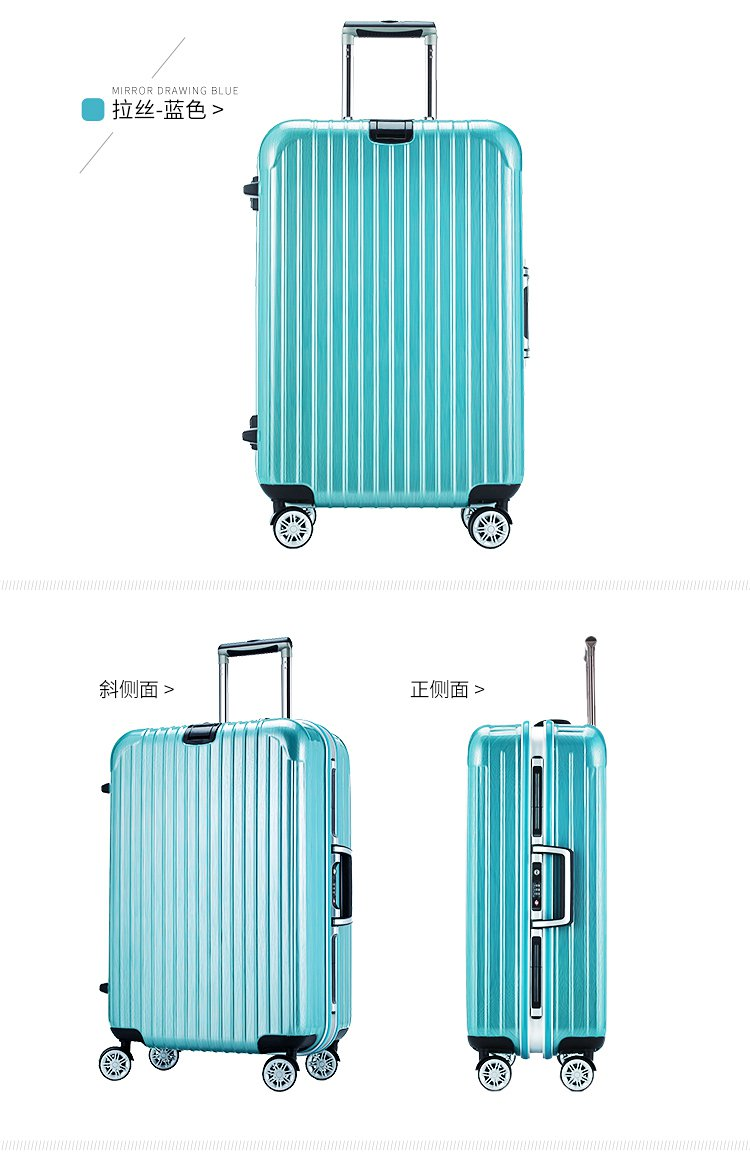luggage: (242, 19, 531, 552)
